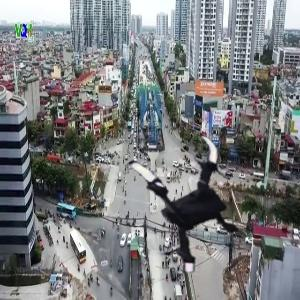drone: (113, 132, 269, 288)
